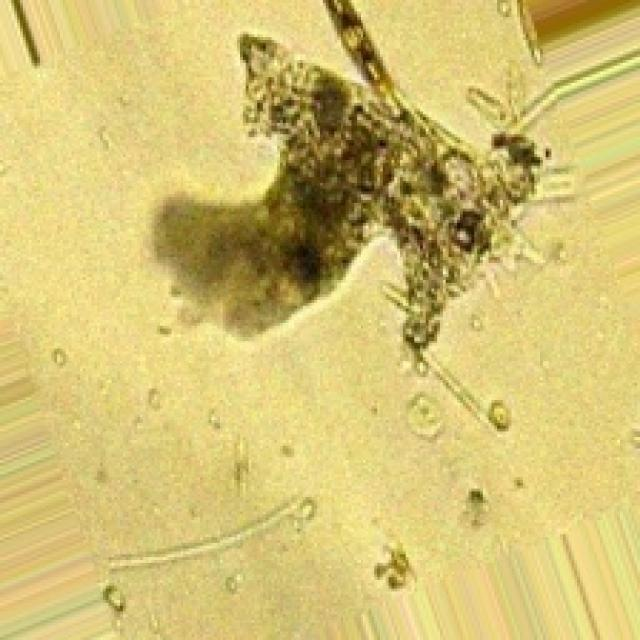Amoeba: (136, 0, 564, 457)
